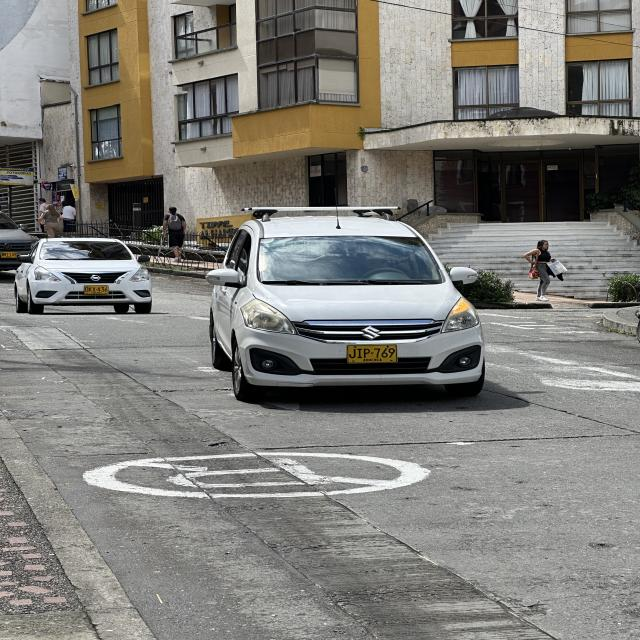number plate: (347, 344, 397, 363), (84, 285, 109, 294)
